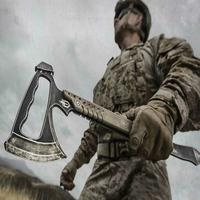knife: (3, 51, 198, 174)
